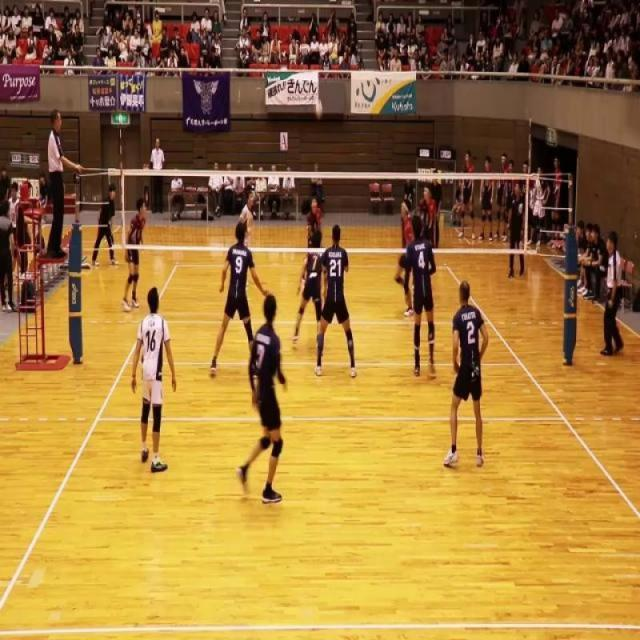volleyball: (315, 98, 323, 121)
